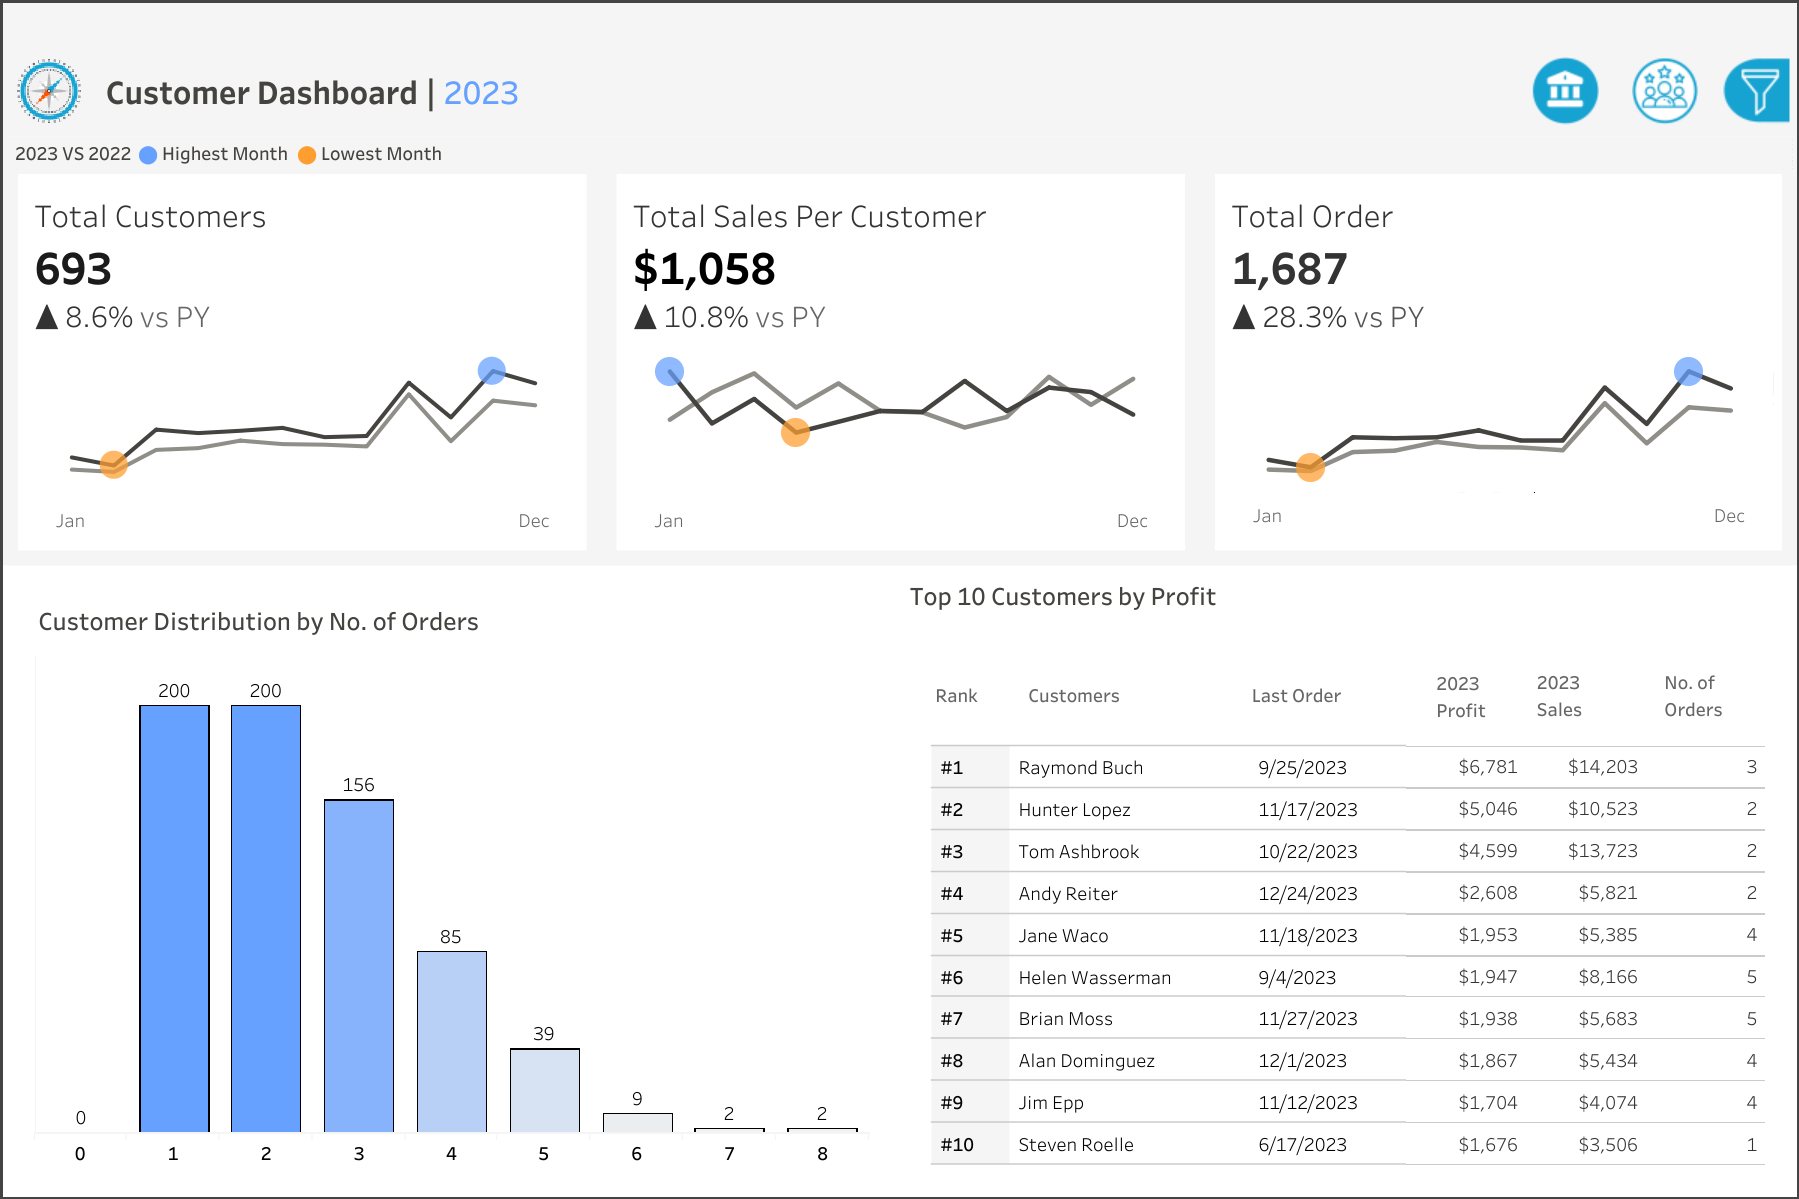

The dashboard page shown, as its layout file describes it:
{"tool":"tableau","page":{"name":"Customers Dashboard","canvas":[1200,800],"ordinal":0},"visuals":[{"type":"blank","box":[2,2,1196,32]},{"type":"image","param":"Image/Icon - Logo.png","box":[2,34,62,53]},{"type":"text","box":[64,34,946,53]},{"type":"dashboard-object","box":[1010,34,67,53]},{"type":"dashboard-object","box":[1077,34,67,53]},{"type":"dashboard-object","box":[1144,34,54,53]},{"type":"worksheet","title":"Legends KPI","mark":"Automatic","box":[2,87,1196,29]},{"type":"text","box":[1015,105,173,42]},{"type":"worksheet","title":"KPI Customer","mark":"Automatic","rows":["Calculation_0788966195257347"],"cols":["Order Date"],"box":[2,116,399,261]},{"type":"worksheet","title":"KPI Sales per Customer","mark":"Automatic","rows":["Calculation_0788966207639562"],"cols":["Order Date"],"box":[401,116,399,261]},{"type":"worksheet","title":"KPI Orders","mark":"Automatic","rows":["Calculation_0788966215450642"],"cols":["Order Date"],"box":[800,116,398,261]},{"type":"parameter","param":"[Parameters].[Parameter 0809851671003150]","box":[1015,147,173,76]},{"type":"blank","box":[1015,223,173,33]},{"type":"text","box":[1015,256,173,49]},{"type":"filter","title":"KPI Customer","param":"[federated.1uo8g6a04o2a0o13bzhg10rgxeyp].[none:Region:nk]","box":[1015,305,173,72]},{"type":"text","box":[600,377,598,39]},{"type":"filter","title":"KPI Customer","param":"[federated.1uo8g6a04o2a0o13bzhg10rgxeyp].[none:State:nk]","box":[1015,377,173,74]},{"type":"text","box":[19,394,564,39]},{"type":"worksheet","title":"Customer Distribution","mark":"Bar","rows":["Calculation_0788966182699008"],"cols":["Calculation_0788966274113555"],"box":[19,433,564,348]},{"type":"text","box":[617,433,62,60]},{"type":"text","box":[679,433,149,60]},{"type":"text","box":[828,433,123,60]},{"type":"text","box":[951,433,67,60]},{"type":"text","box":[1018,433,85,60]},{"type":"text","box":[1103,433,78,60]},{"type":"filter","title":"KPI Customer","param":"[federated.1uo8g6a04o2a0o13bzhg10rgxeyp].[none:City:nk]","box":[1015,451,173,94]},{"type":"worksheet","title":"Top Customers","mark":"Automatic","rows":["Calculation_0788966280728598","Customer Name","Order Date"],"box":[617,493,564,288]},{"type":"blank","box":[1015,545,173,32]},{"type":"text","box":[1015,577,173,49]},{"type":"filter","title":"KPI Customer","param":"[federated.1uo8g6a04o2a0o13bzhg10rgxeyp].[none:Category:nk]","box":[1015,626,173,76]},{"type":"filter","title":"KPI Customer","param":"[federated.1uo8g6a04o2a0o13bzhg10rgxeyp].[none:Sub-Category:nk]","box":[1015,702,173,85]}]}

Visuals, with their boxes in screenshot pixels (x1, y1, x2, y2), scaled from the page's 1200x800 canvas onto the 1799x1199 screenshot:
blank: pyautogui.locateOnScreen(3, 3, 1796, 51)
image: pyautogui.locateOnScreen(3, 51, 96, 130)
text: pyautogui.locateOnScreen(96, 51, 1514, 130)
dashboard-object: pyautogui.locateOnScreen(1514, 51, 1615, 130)
dashboard-object: pyautogui.locateOnScreen(1615, 51, 1715, 130)
dashboard-object: pyautogui.locateOnScreen(1715, 51, 1796, 130)
"Legends KPI" worksheet: pyautogui.locateOnScreen(3, 130, 1796, 174)
text: pyautogui.locateOnScreen(1522, 157, 1781, 220)
"KPI Customer" worksheet: pyautogui.locateOnScreen(3, 174, 601, 565)
"KPI Sales per Customer" worksheet: pyautogui.locateOnScreen(601, 174, 1199, 565)
"KPI Orders" worksheet: pyautogui.locateOnScreen(1199, 174, 1796, 565)
parameter: pyautogui.locateOnScreen(1522, 220, 1781, 334)
blank: pyautogui.locateOnScreen(1522, 334, 1781, 384)
text: pyautogui.locateOnScreen(1522, 384, 1781, 457)
"KPI Customer" filter: pyautogui.locateOnScreen(1522, 457, 1781, 565)
text: pyautogui.locateOnScreen(900, 565, 1796, 623)
"KPI Customer" filter: pyautogui.locateOnScreen(1522, 565, 1781, 676)
text: pyautogui.locateOnScreen(28, 591, 874, 649)
"Customer Distribution" worksheet (Bar marks): pyautogui.locateOnScreen(28, 649, 874, 1171)
text: pyautogui.locateOnScreen(925, 649, 1018, 739)
text: pyautogui.locateOnScreen(1018, 649, 1241, 739)
text: pyautogui.locateOnScreen(1241, 649, 1426, 739)
text: pyautogui.locateOnScreen(1426, 649, 1526, 739)
text: pyautogui.locateOnScreen(1526, 649, 1654, 739)
text: pyautogui.locateOnScreen(1654, 649, 1771, 739)
"KPI Customer" filter: pyautogui.locateOnScreen(1522, 676, 1781, 817)
"Top Customers" worksheet: pyautogui.locateOnScreen(925, 739, 1771, 1171)
blank: pyautogui.locateOnScreen(1522, 817, 1781, 865)
text: pyautogui.locateOnScreen(1522, 865, 1781, 938)
"KPI Customer" filter: pyautogui.locateOnScreen(1522, 938, 1781, 1052)
"KPI Customer" filter: pyautogui.locateOnScreen(1522, 1052, 1781, 1180)
